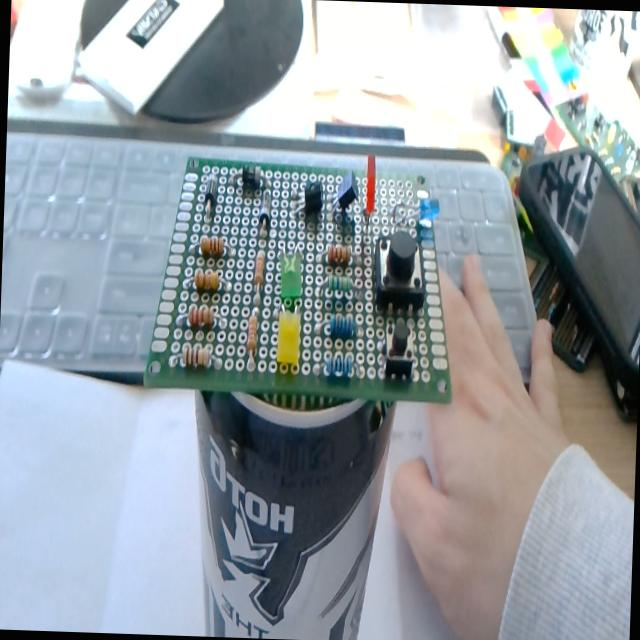diode: (228, 162, 270, 194), (201, 166, 222, 222), (256, 182, 276, 234)
led: (273, 303, 307, 372), (276, 237, 308, 308), (393, 188, 444, 232), (359, 144, 383, 235)
resistor: (240, 306, 267, 373), (176, 301, 228, 334), (182, 264, 233, 296), (314, 352, 363, 384), (246, 244, 270, 308), (316, 269, 362, 302), (314, 310, 362, 340), (166, 346, 225, 370), (317, 234, 356, 268), (186, 234, 233, 261)
switch: (368, 222, 430, 314), (378, 314, 416, 381)
transistor: (324, 165, 362, 226), (286, 177, 326, 230)
